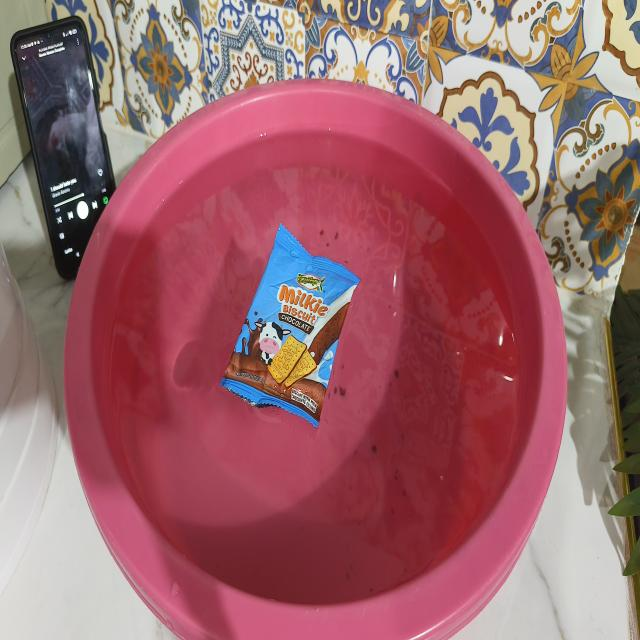Plastic Wrapper: (221, 224, 359, 427)
